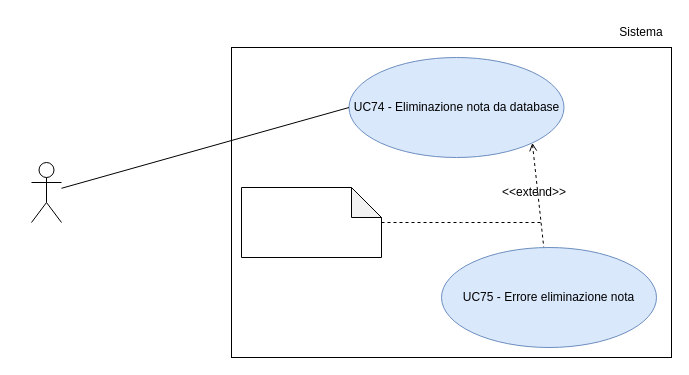
The diagram is 689 pixels wide and 375 high, and some of its shapes have lost their labels. Each missing label, with the box of its shape:
Condizione Il sistema non riesce ad eliminare la nota: (240, 186, 382, 258)
Utente autenticato: (30, 162, 62, 222)
